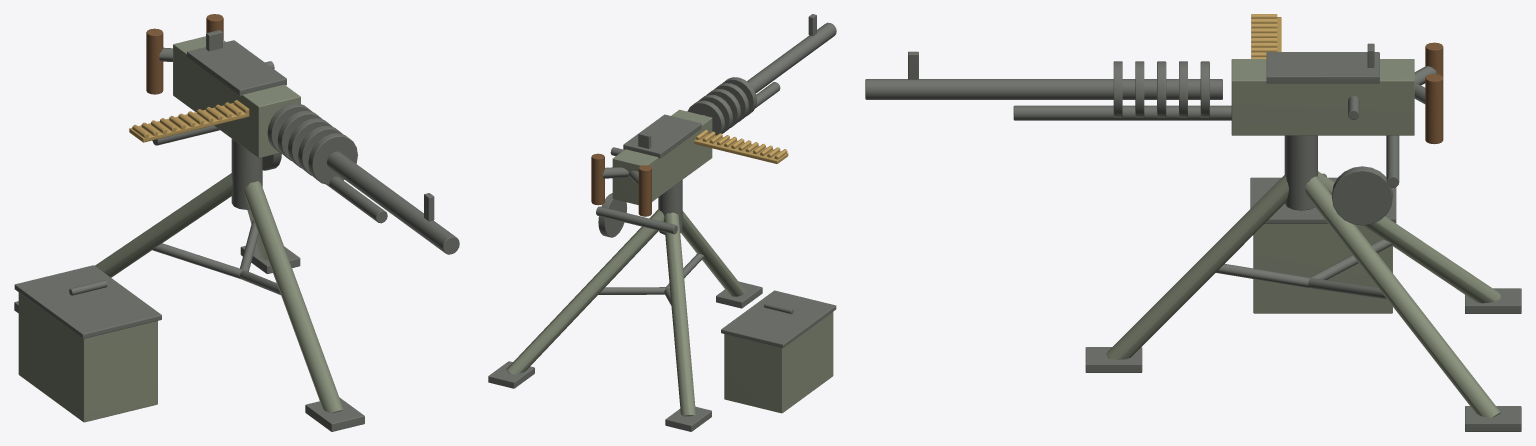
Rendered from french_hmg.glb.
The picture shows the model from 3 angles, left to right: view 1: azimuth 30°, elevation 25°; view 2: azimuth 150°, elevation 25°; view 3: azimuth 270°, elevation 25°; orthographic projection. The views are drawn at different scales.
Visible parts, largest first — view 1: ammo_box, ammo_lid, receiver, tripod_leg_2, gun_barrel, tripod_leg_0, feed_cover, pintle, cooling_fin_4, spade_grip_-1, foot_2, feed_strip (+10 smaller); view 2: ammo_box, receiver, ammo_lid, tripod_leg_1, tripod_leg_0, feed_cover, gun_barrel, tripod_leg_2, traverse_screw, feed_strip, pintle, spade_grip_-1 (+11 smaller); view 3: receiver, ammo_box, gun_barrel, tripod_leg_1, tripod_leg_2, feed_cover, tripod_leg_0, gas_tube, elevation_wheel, pintle, ammo_lid, spade_grip_1 (+7 smaller).
Part boxes in pixels (x1,y1,x2,y2): ammo_box: (18,292,157,422); ammo_lid: (14,265,161,338); receiver: (173,36,300,157); tripod_leg_2: (244,181,343,413); gun_barrel: (327,151,459,254); tripod_leg_0: (95,173,232,277); feed_cover: (187,40,286,96); pintle: (231,139,262,209); cooling_fin_4: (308,133,357,184); spade_grip_-1: (146,28,163,94); foot_2: (305,397,364,431); feed_strip: (129,103,249,142); ammo_box: (724,312,833,413); receiver: (612,109,712,204); ammo_lid: (721,290,836,347); tripod_leg_1: (506,209,664,374); tripod_leg_0: (664,212,695,416); feed_cover: (623,114,701,158); gun_barrel: (702,22,836,115); tripod_leg_2: (681,211,745,296); traverse_screw: (596,206,677,234); feed_strip: (694,133,788,163); pintle: (658,180,682,234); spade_grip_-1: (638,165,651,216); receiver: (1231,59,1414,135); ammo_box: (1253,224,1392,313); gun_barrel: (865,79,1222,99); tripod_leg_1: (1305,175,1500,417); tripod_leg_2: (1106,175,1288,359); feed_cover: (1266,52,1379,83); tripod_leg_0: (1318,171,1500,303); gas_tube: (1013,105,1231,120); elevation_wheel: (1332,166,1392,225); pintle: (1284,135,1317,210); ammo_lid: (1250,177,1396,223); spade_grip_1: (1425,74,1443,144).
Size of the model in its own units: 0.9 by 0.8225 by 1.5.
